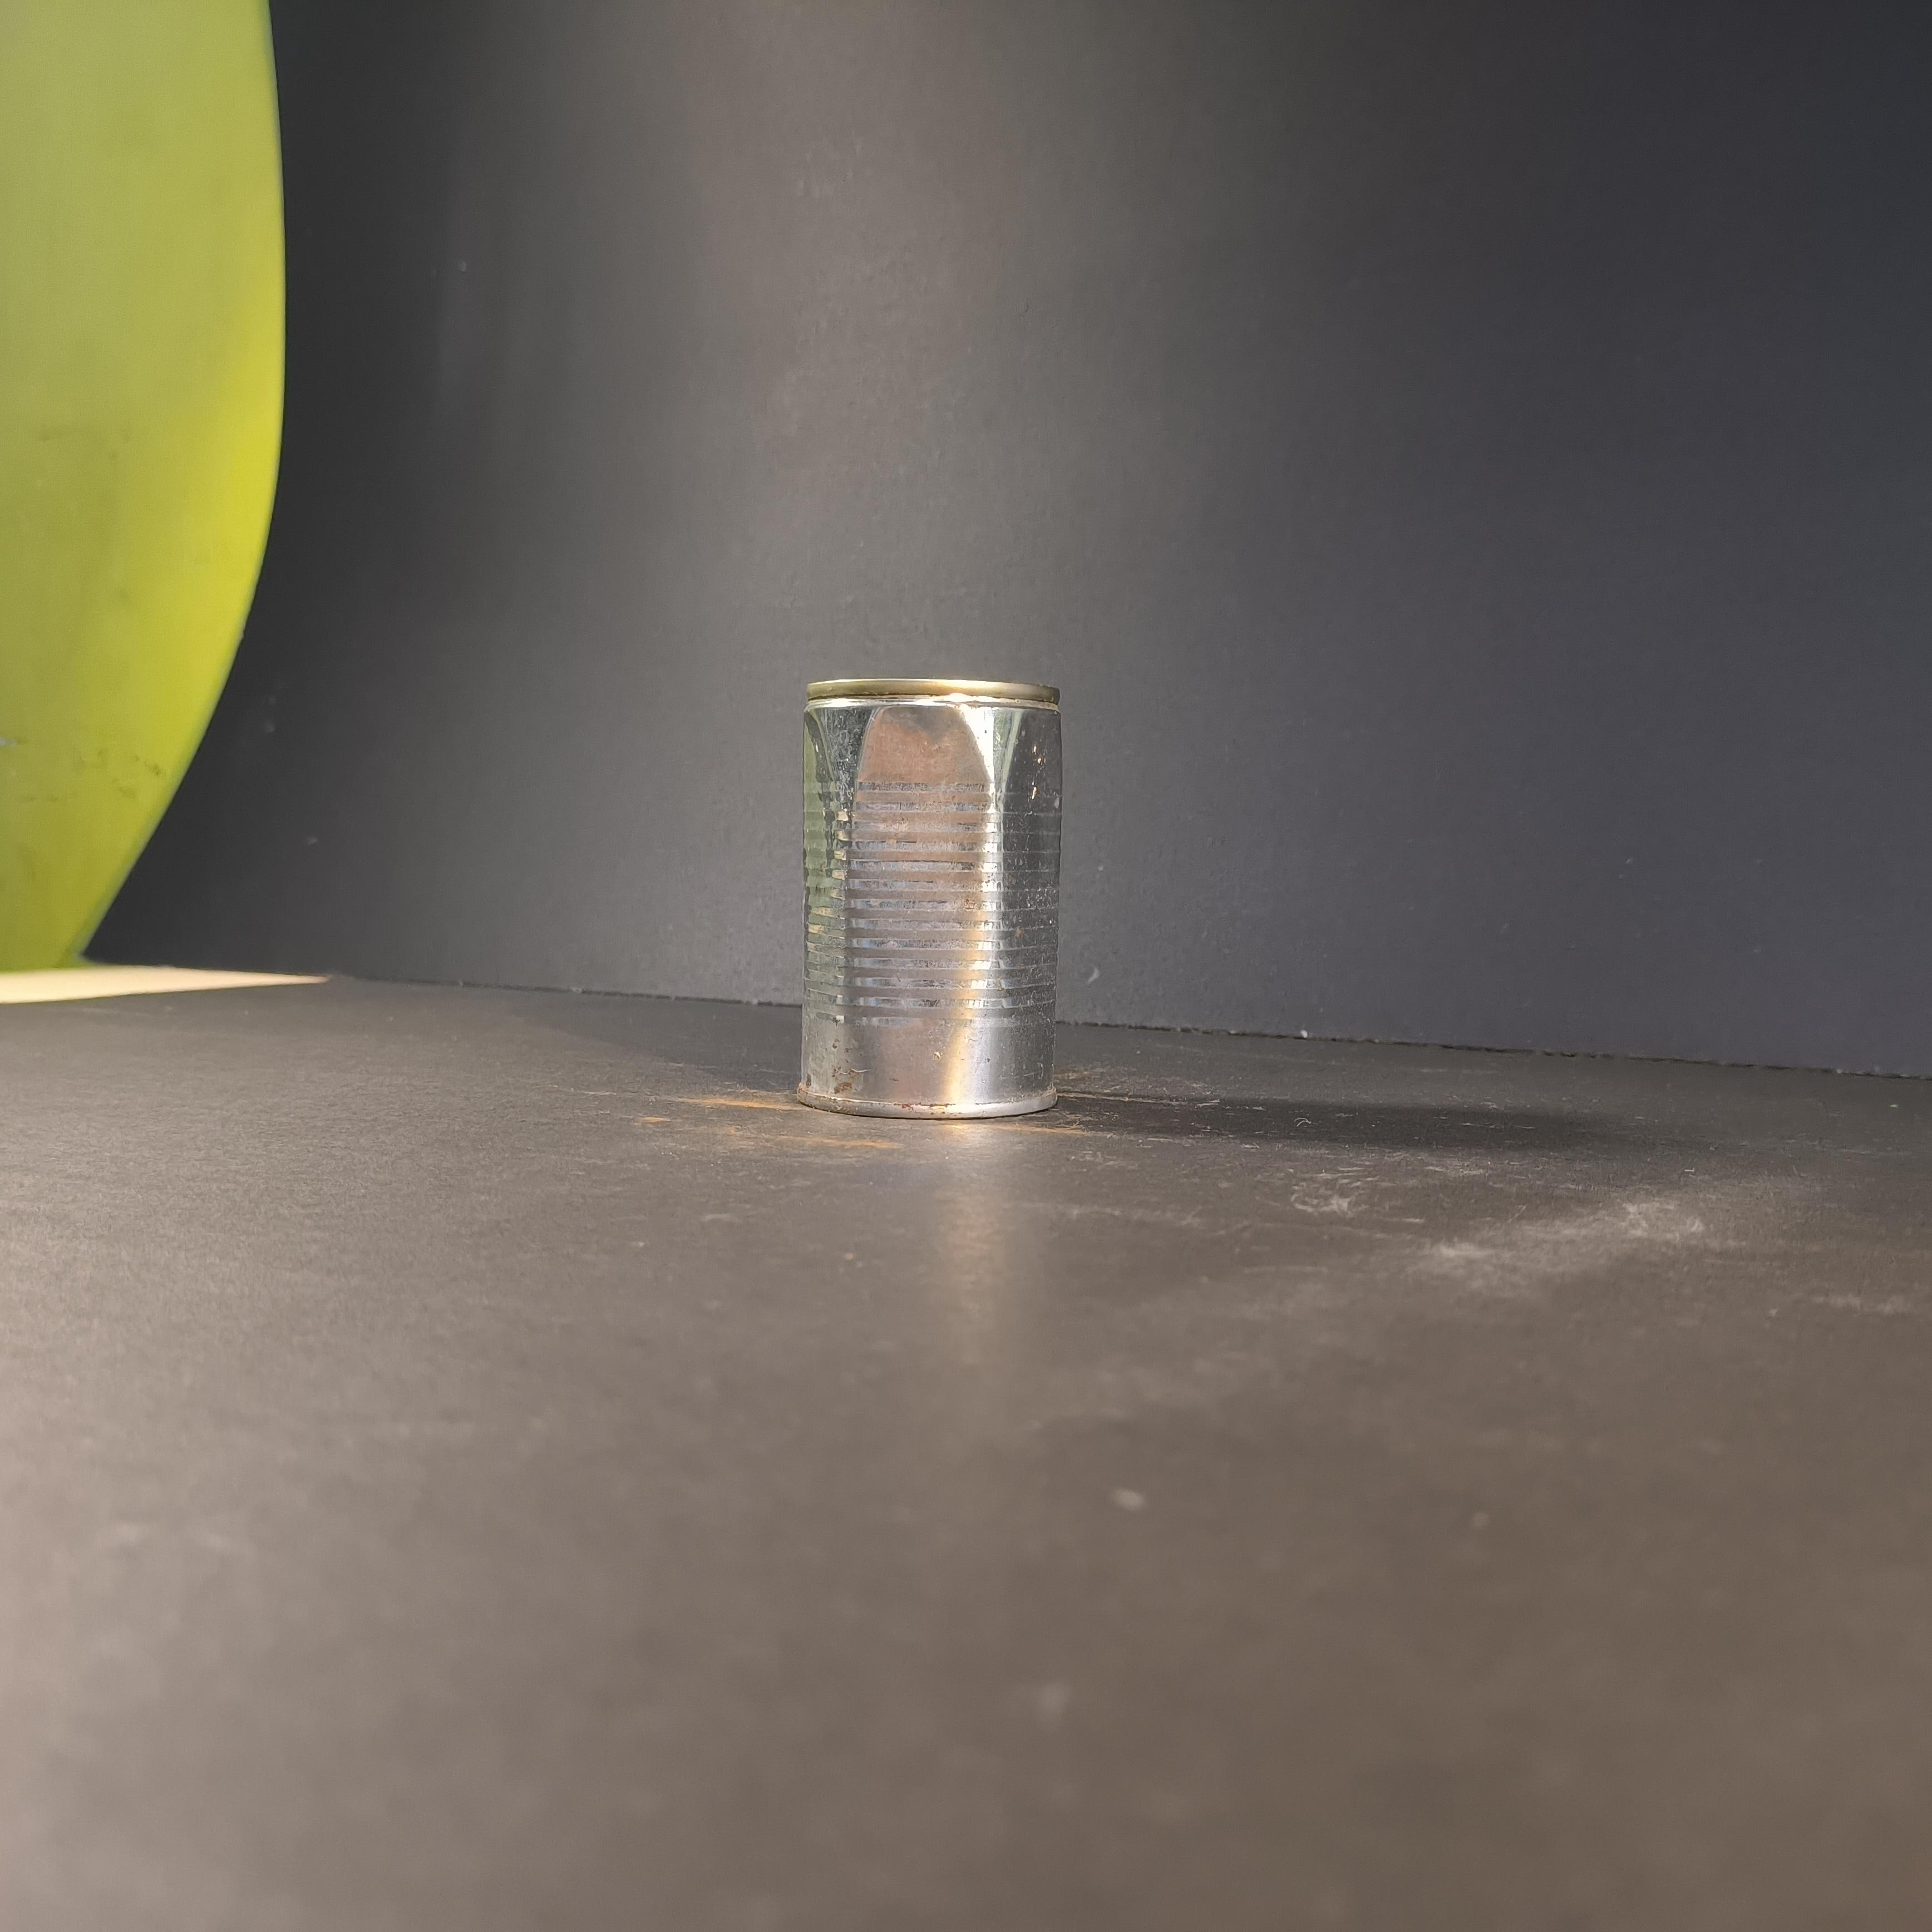Dented: (778, 635, 1097, 1132)
